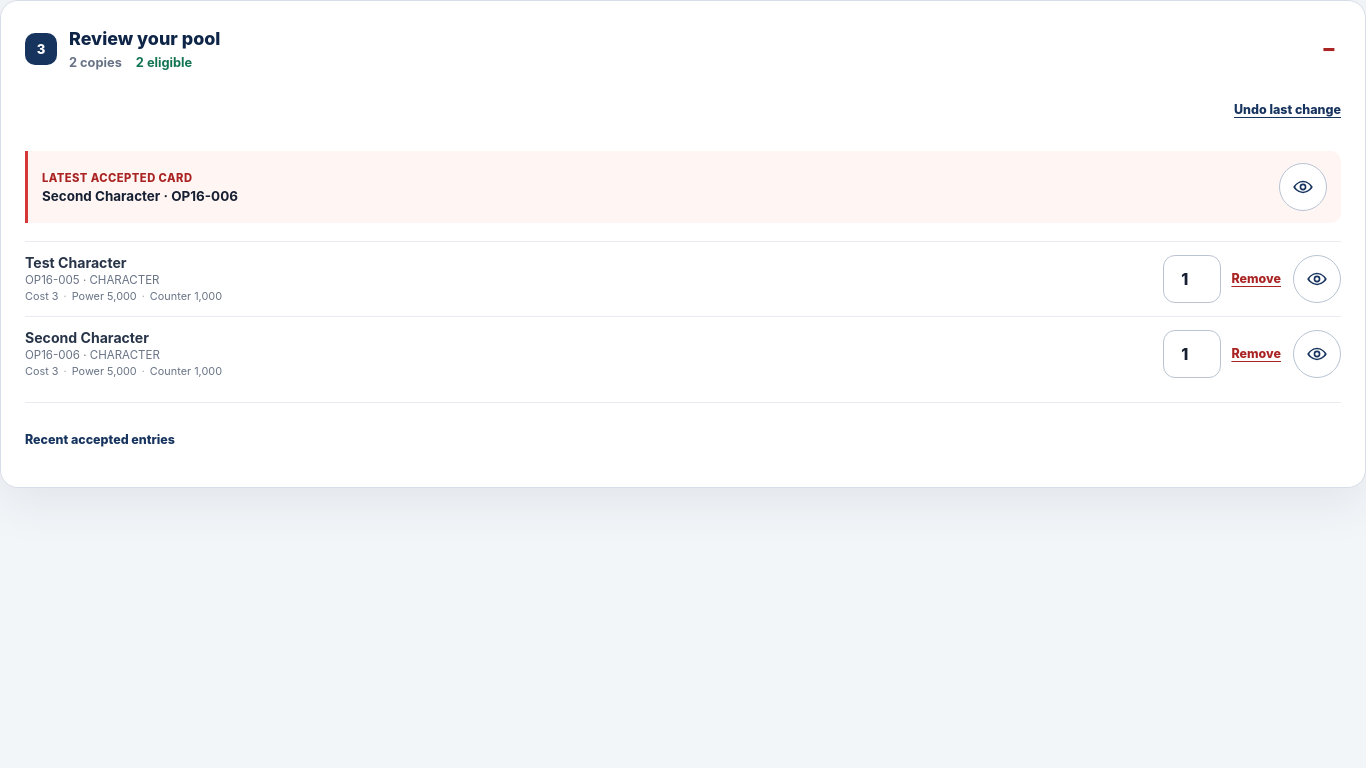
Test: PoolReview › reveals cards from the latest card and pool rows but not recent entries
Click the button named "View Second Character, OP16-006" in the row of "Latest accepted card" at (1303, 187), box [1279,163,1327,211]
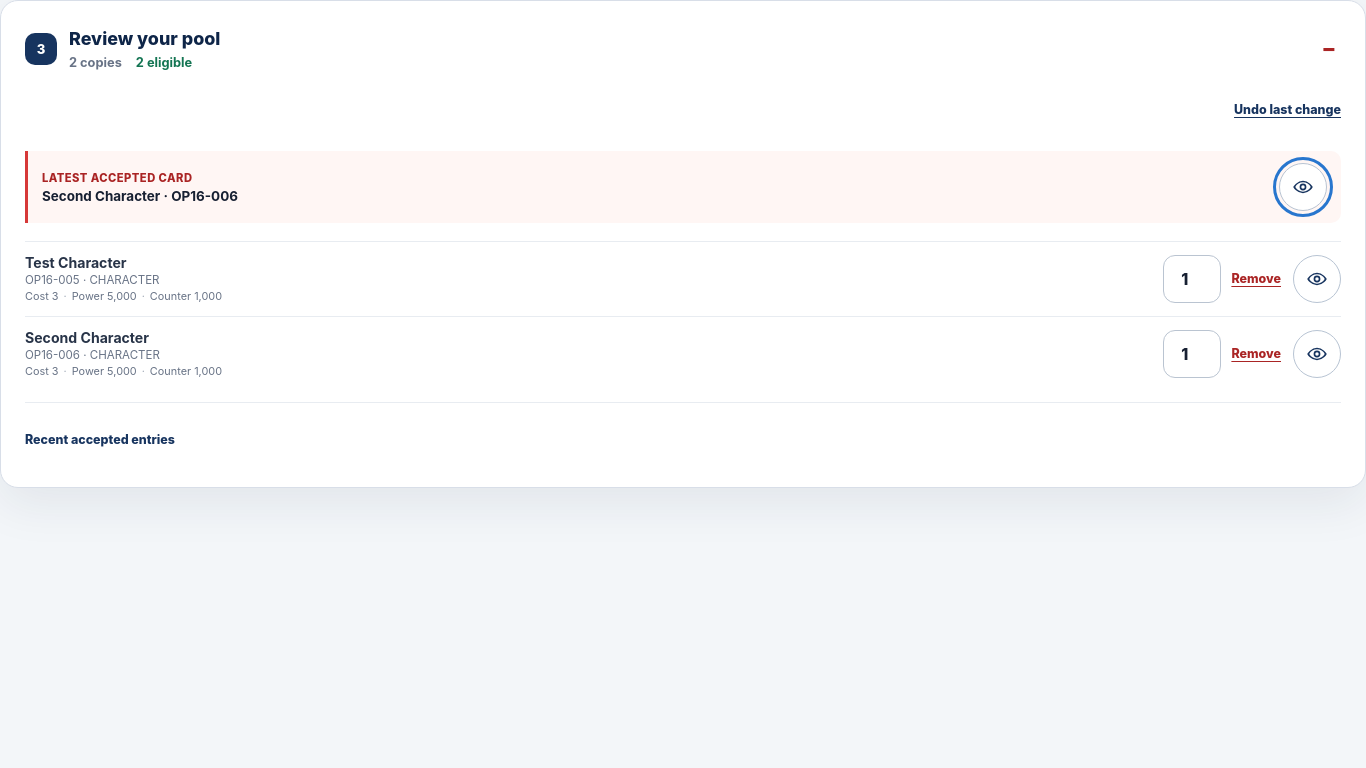
Click the button named "View Test Character, OP16-005" at (1317, 279), box [1293,255,1341,303]
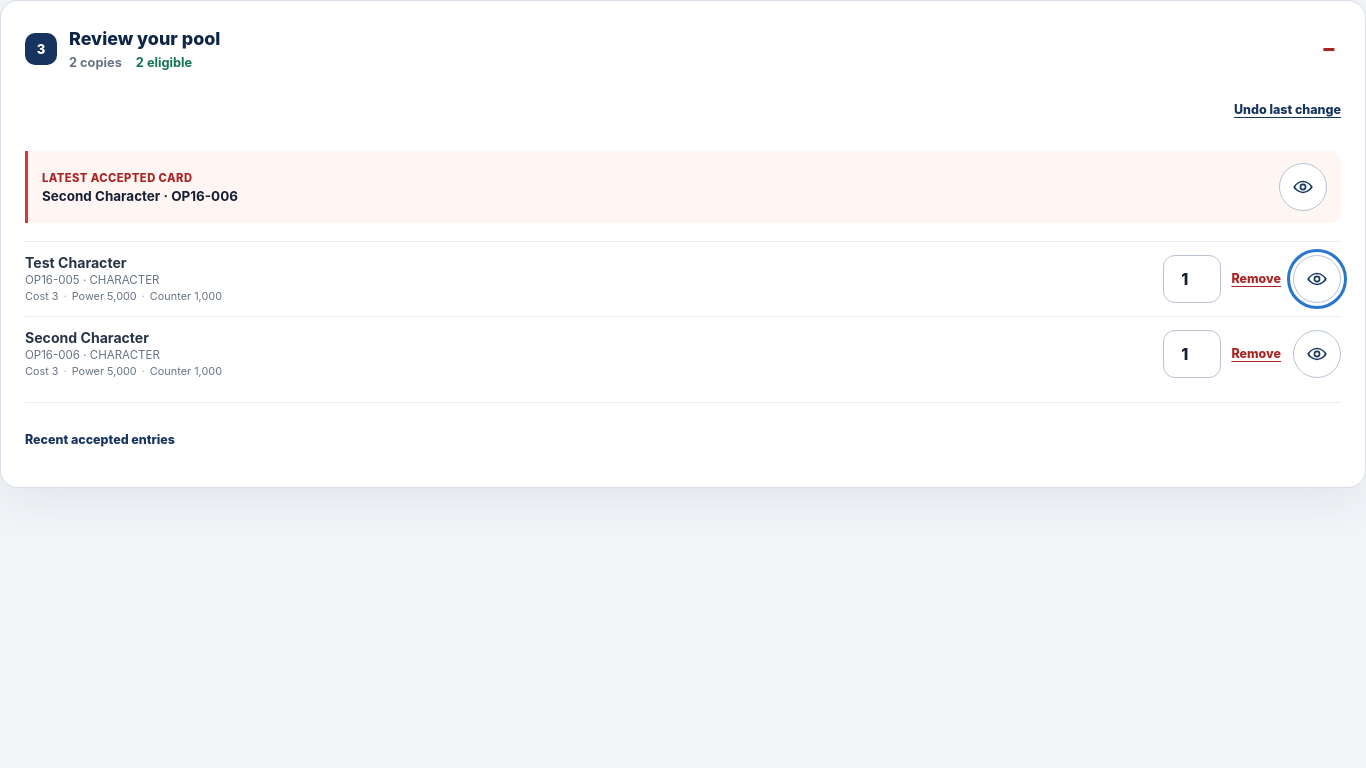
Click the 2nd button named "View Second Character, OP16-006" at (1317, 354), box [1293,330,1341,378]
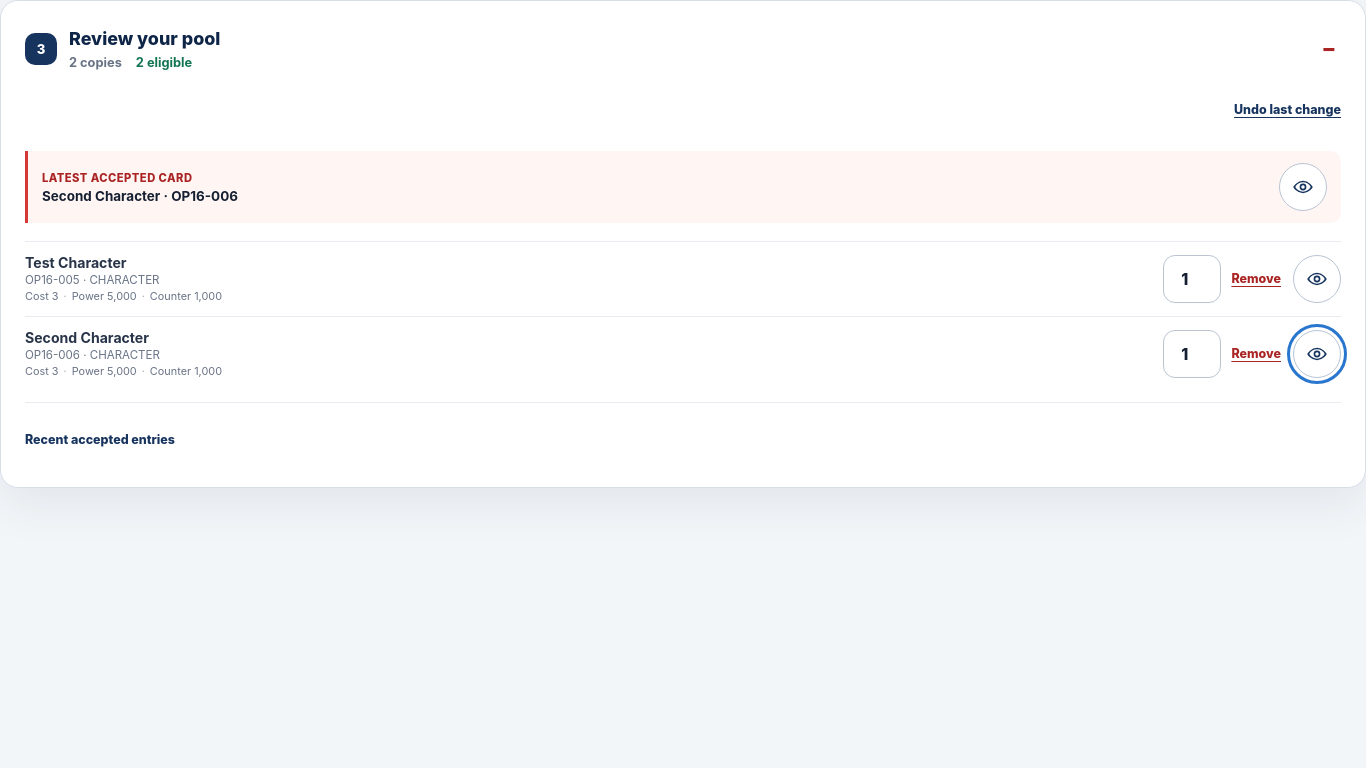
Click the heading "Recent accepted entries" at (100, 439), box [25,432,175,447]
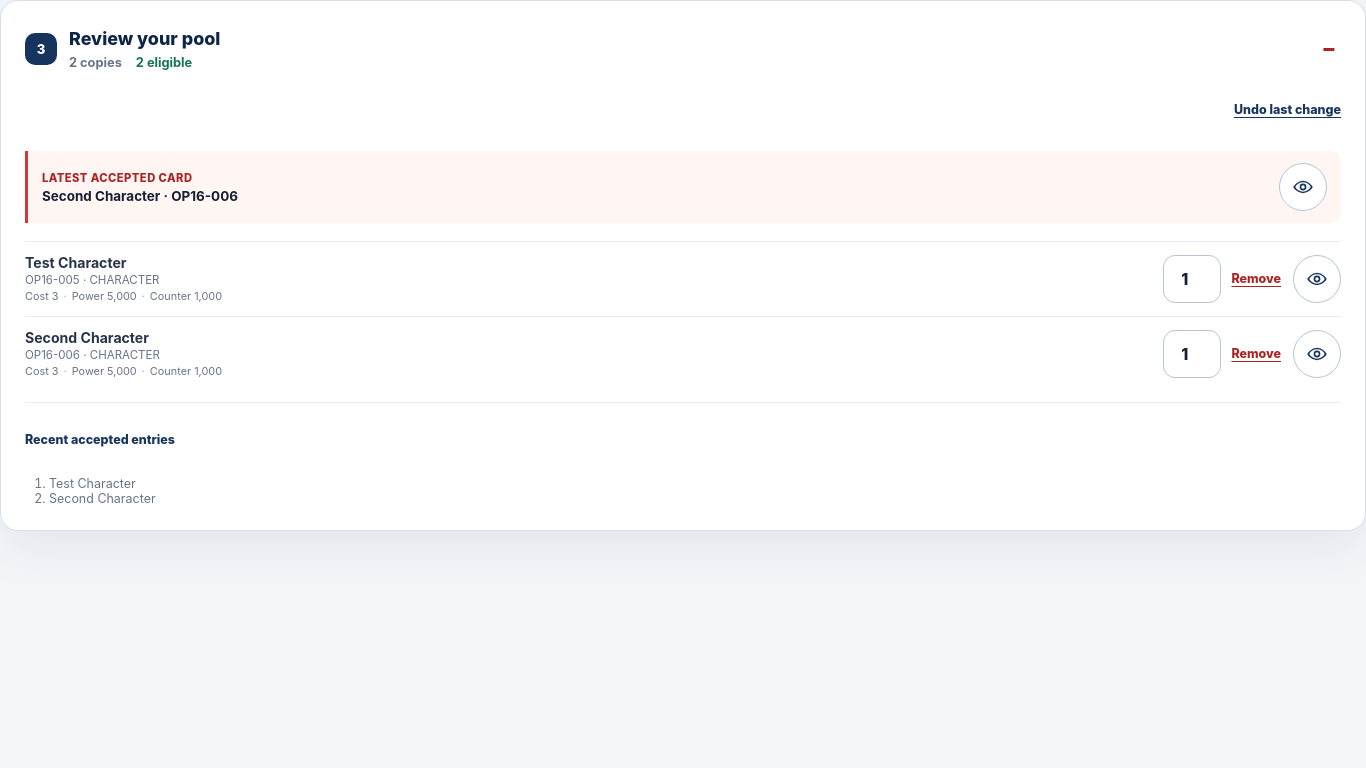
Check: the list item "Test Character" is shown, box [49,476,136,491]
